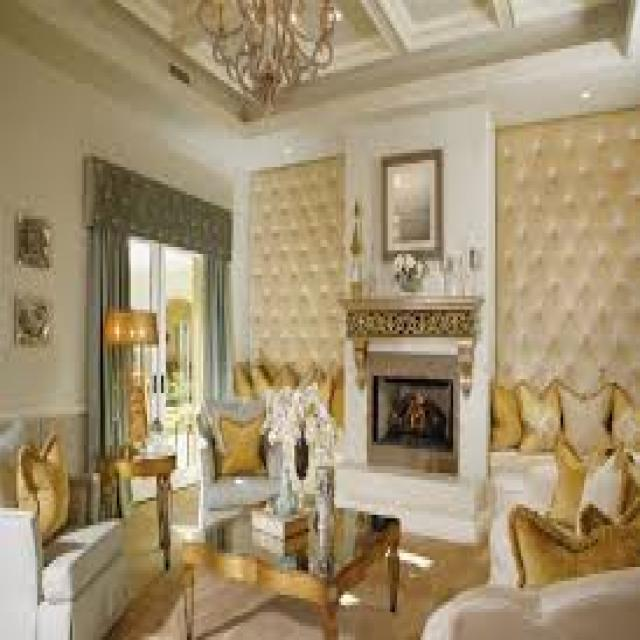Chair: (0, 425, 133, 634), (195, 388, 284, 522)
Lamp: (96, 297, 162, 451)
Table: (174, 506, 408, 634)
